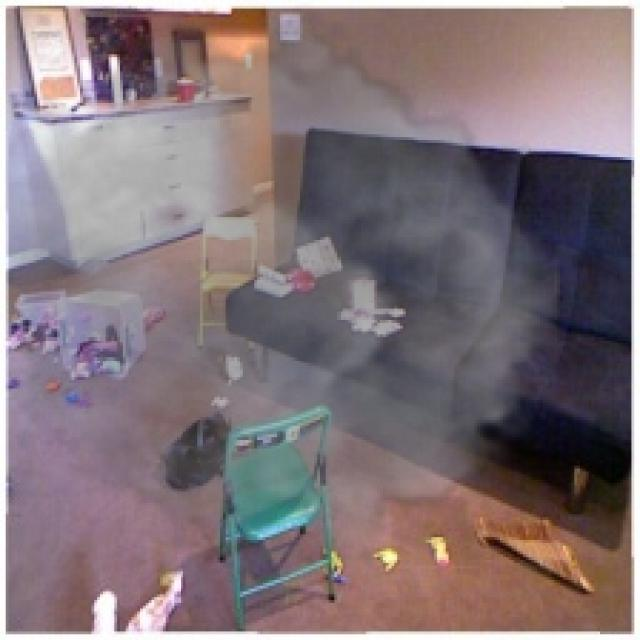smoke: (9, 3, 560, 568)
